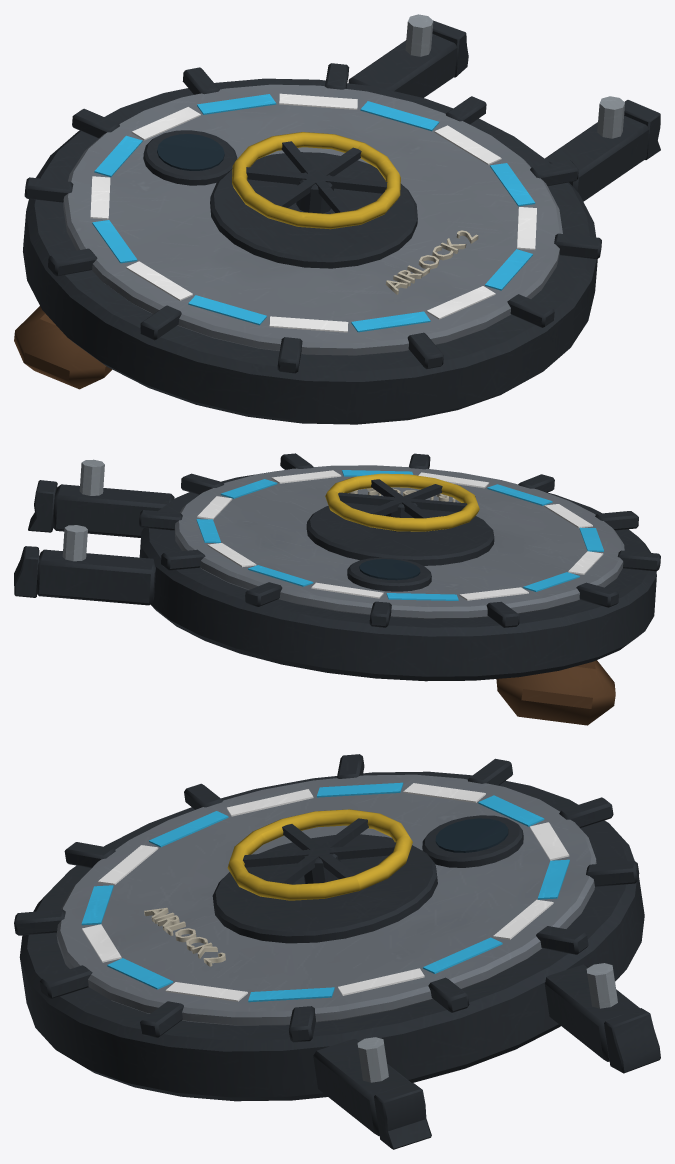
The model's file is airlock_door.glb.
3 views of the same model, one above another, from view 1: azimuth 30°, elevation 25°; view 2: azimuth 150°, elevation 25°; view 3: azimuth 270°, elevation 25° (orthographic). The views are drawn at different scales.
Parts seen in each view (by area): view 1: airlock_door; view 2: airlock_door; view 3: airlock_door.
Boxes of the visible parts, x1,y1,x2,y2 form: airlock_door: [14, 14, 660, 424]; airlock_door: [14, 453, 660, 725]; airlock_door: [14, 754, 660, 1149].
Size of the model in its own units: 2.84 by 0.777 by 2.28.
9 materials, 9 textured.
